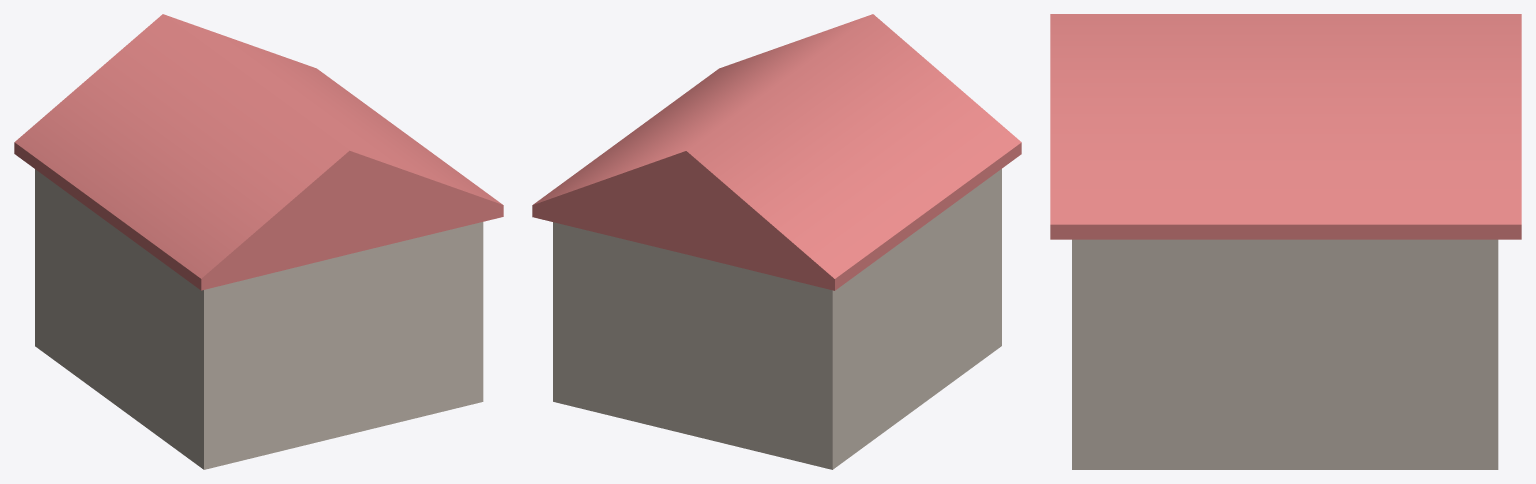
File: Home Button.fbx
The picture shows the model from 3 angles, left to right: view 1: azimuth 30°, elevation 25°; view 2: azimuth 150°, elevation 25°; view 3: azimuth 270°, elevation 25°; orthographic projection. The views are drawn at different scales.
Visible parts, largest first — view 1: polySurface1, polySurface2; view 2: polySurface1, polySurface2; view 3: polySurface2, polySurface1.
Part boxes in pixels (x1,y1,x2,y2): polySurface1: [35, 169, 483, 469]; polySurface2: [14, 14, 503, 290]; polySurface1: [553, 169, 1001, 469]; polySurface2: [532, 14, 1021, 290]; polySurface2: [1050, 14, 1521, 239]; polySurface1: [1072, 239, 1498, 469].
Bounding box in the file's own units: 4.5 × 4.16 × 4.82.
